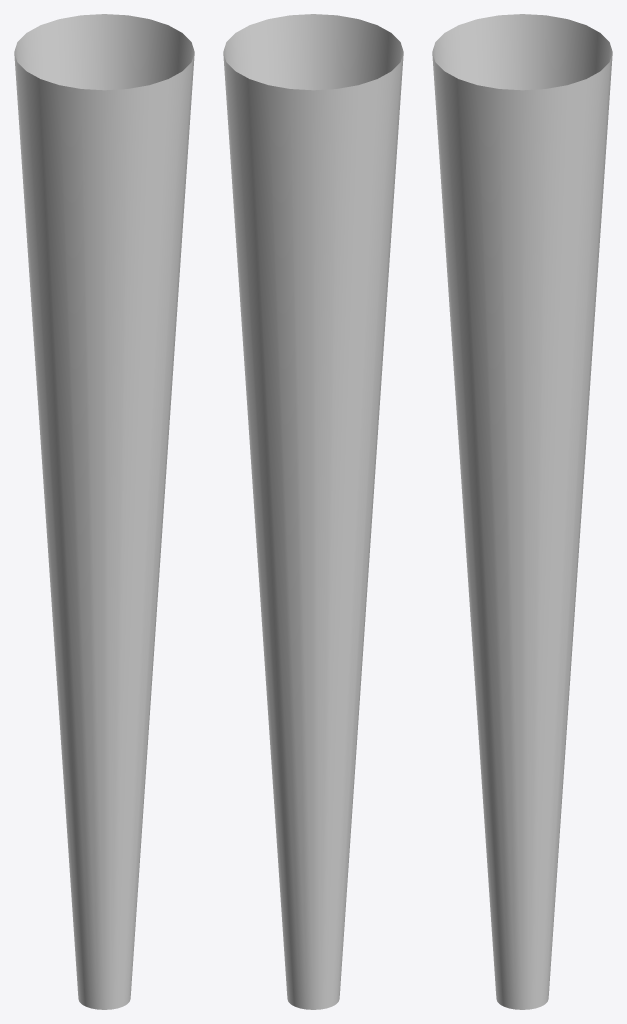
File: gas.obj
3 views of the same model, side by side, from view 1: azimuth 30°, elevation 25°; view 2: azimuth 150°, elevation 25°; view 3: azimuth 270°, elevation 25° (orthographic).
Visible parts, largest first — view 1: gas; view 2: gas; view 3: gas.
Boxes of the visible parts, left/top/right/bottom form: gas: left=14, top=14, right=194, bottom=1009; gas: left=223, top=14, right=403, bottom=1009; gas: left=432, top=14, right=612, bottom=1009.
Bounding box in the file's own units: 0.1728 × 1 × 0.1728.
1 material, 1 textured.
